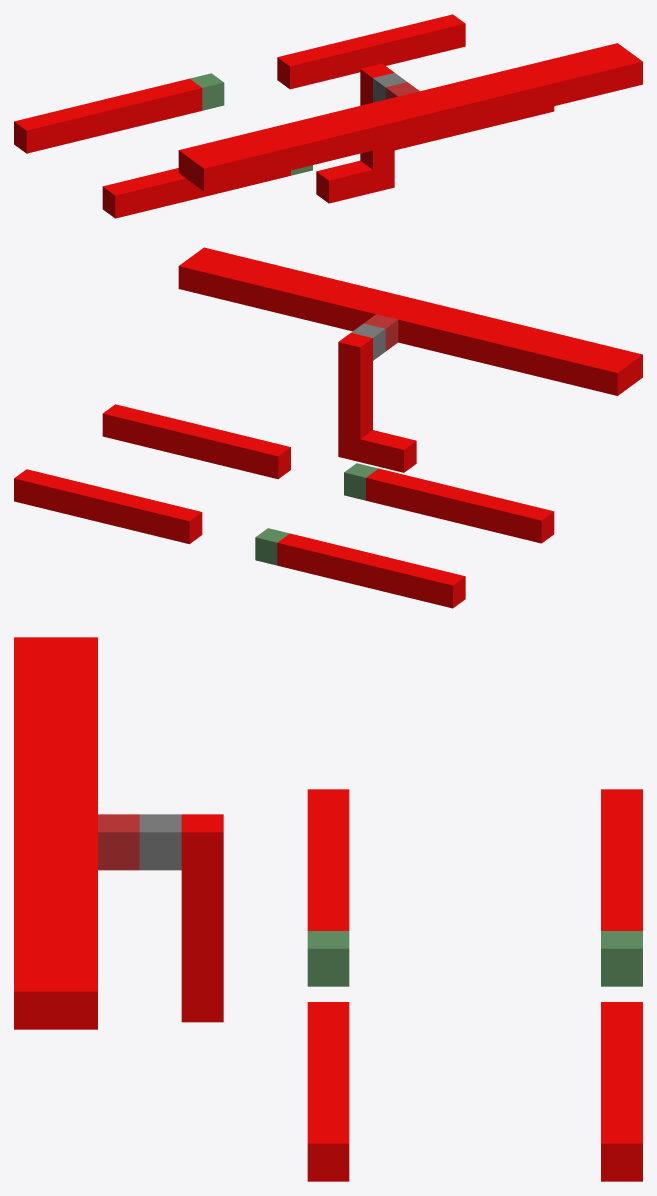
Rendered from cnot_gate.obj.
The picture shows the model from 3 angles, top to bottom: view 1: azimuth 30°, elevation 25°; view 2: azimuth 150°, elevation 25°; view 3: azimuth 270°, elevation 25°; orthographic projection. The views are drawn at different scales.
Size of the model in its own units: 20 by 5 by 15.
